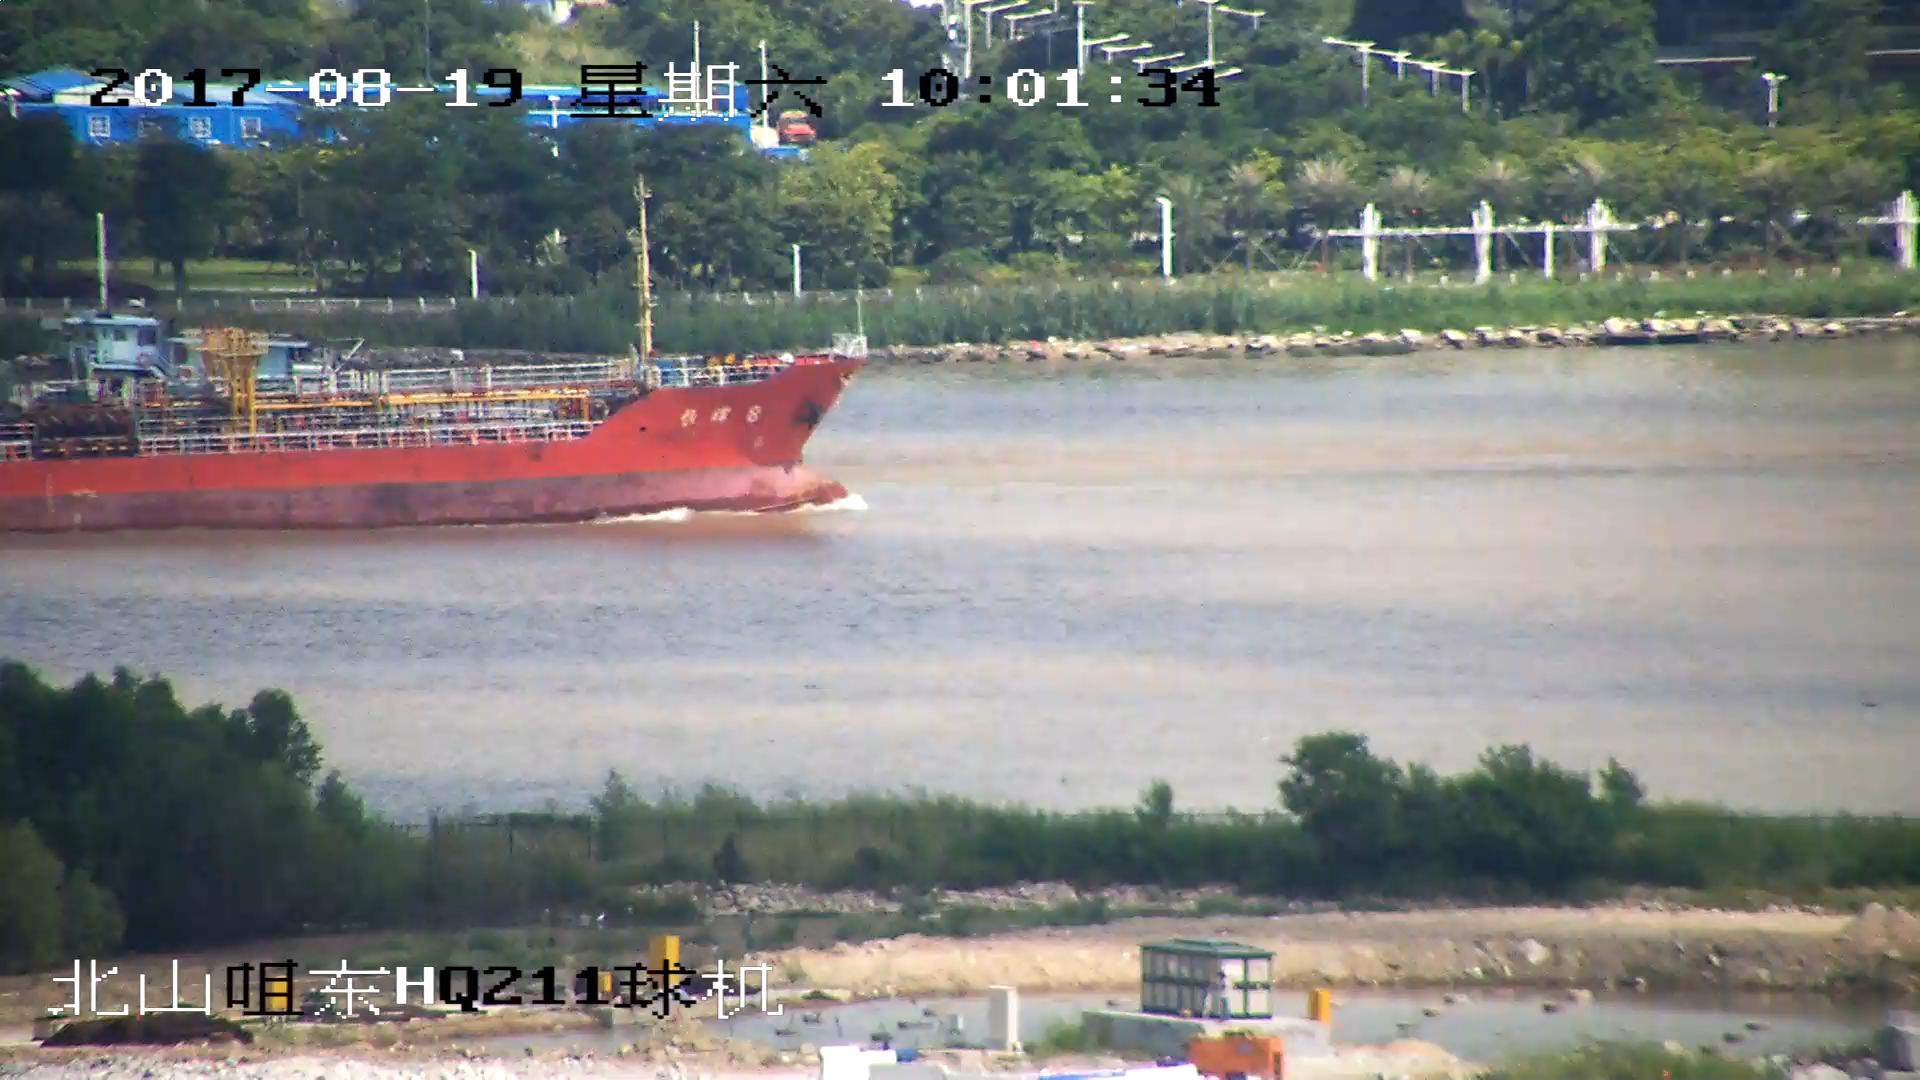general cargo ship: (1, 191, 855, 529)
